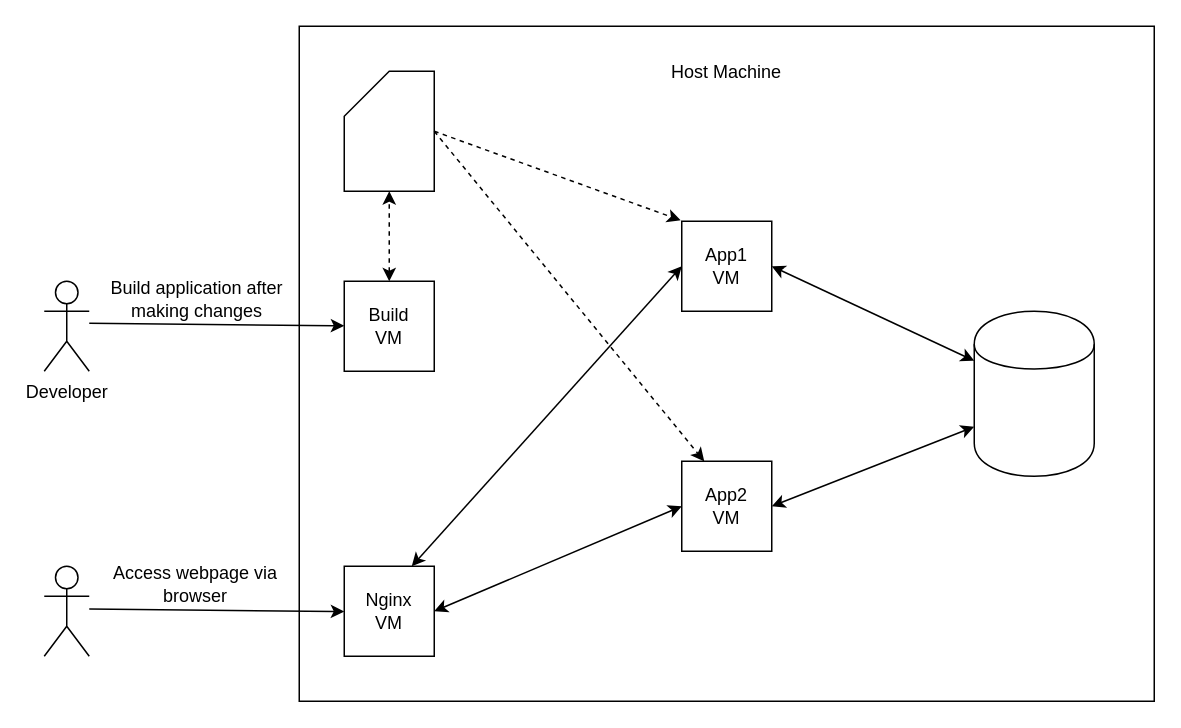
Image size: 1181x728. Some labels were removed from this diagram. The shapes that lost their labels are listed below. From the top down, each one's centre as x and y in pixels, then its label:
At pixel 388 130: "Shared Folder".
At pixel 1033 393: "MongoDB VM".
At pixel 66 610: "User".
